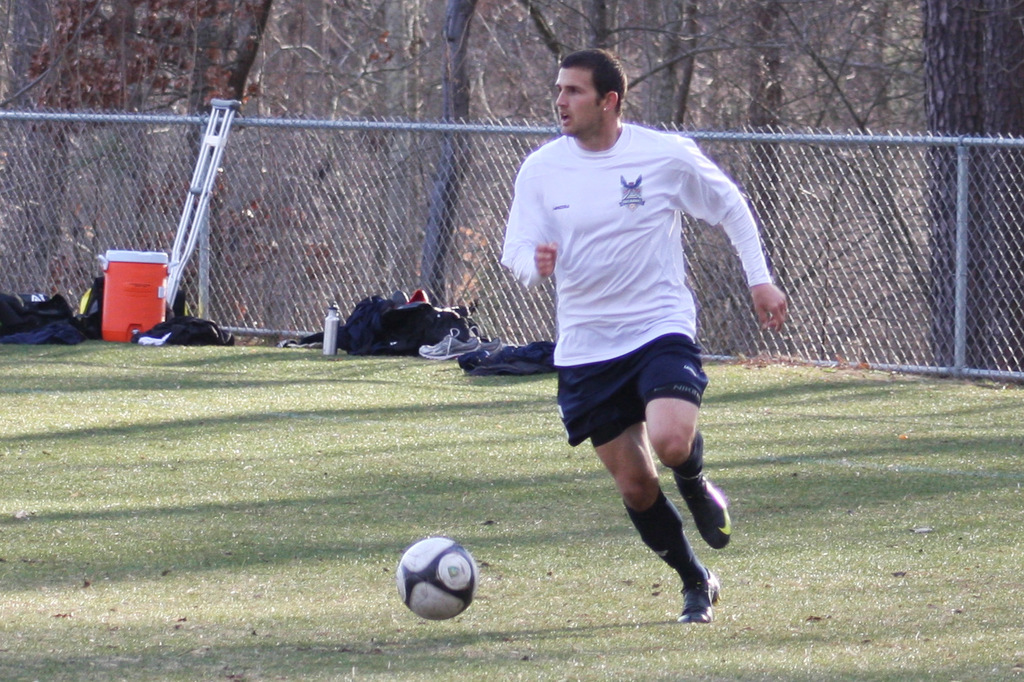Human_hand: (740, 256, 799, 333), (532, 241, 558, 278)
